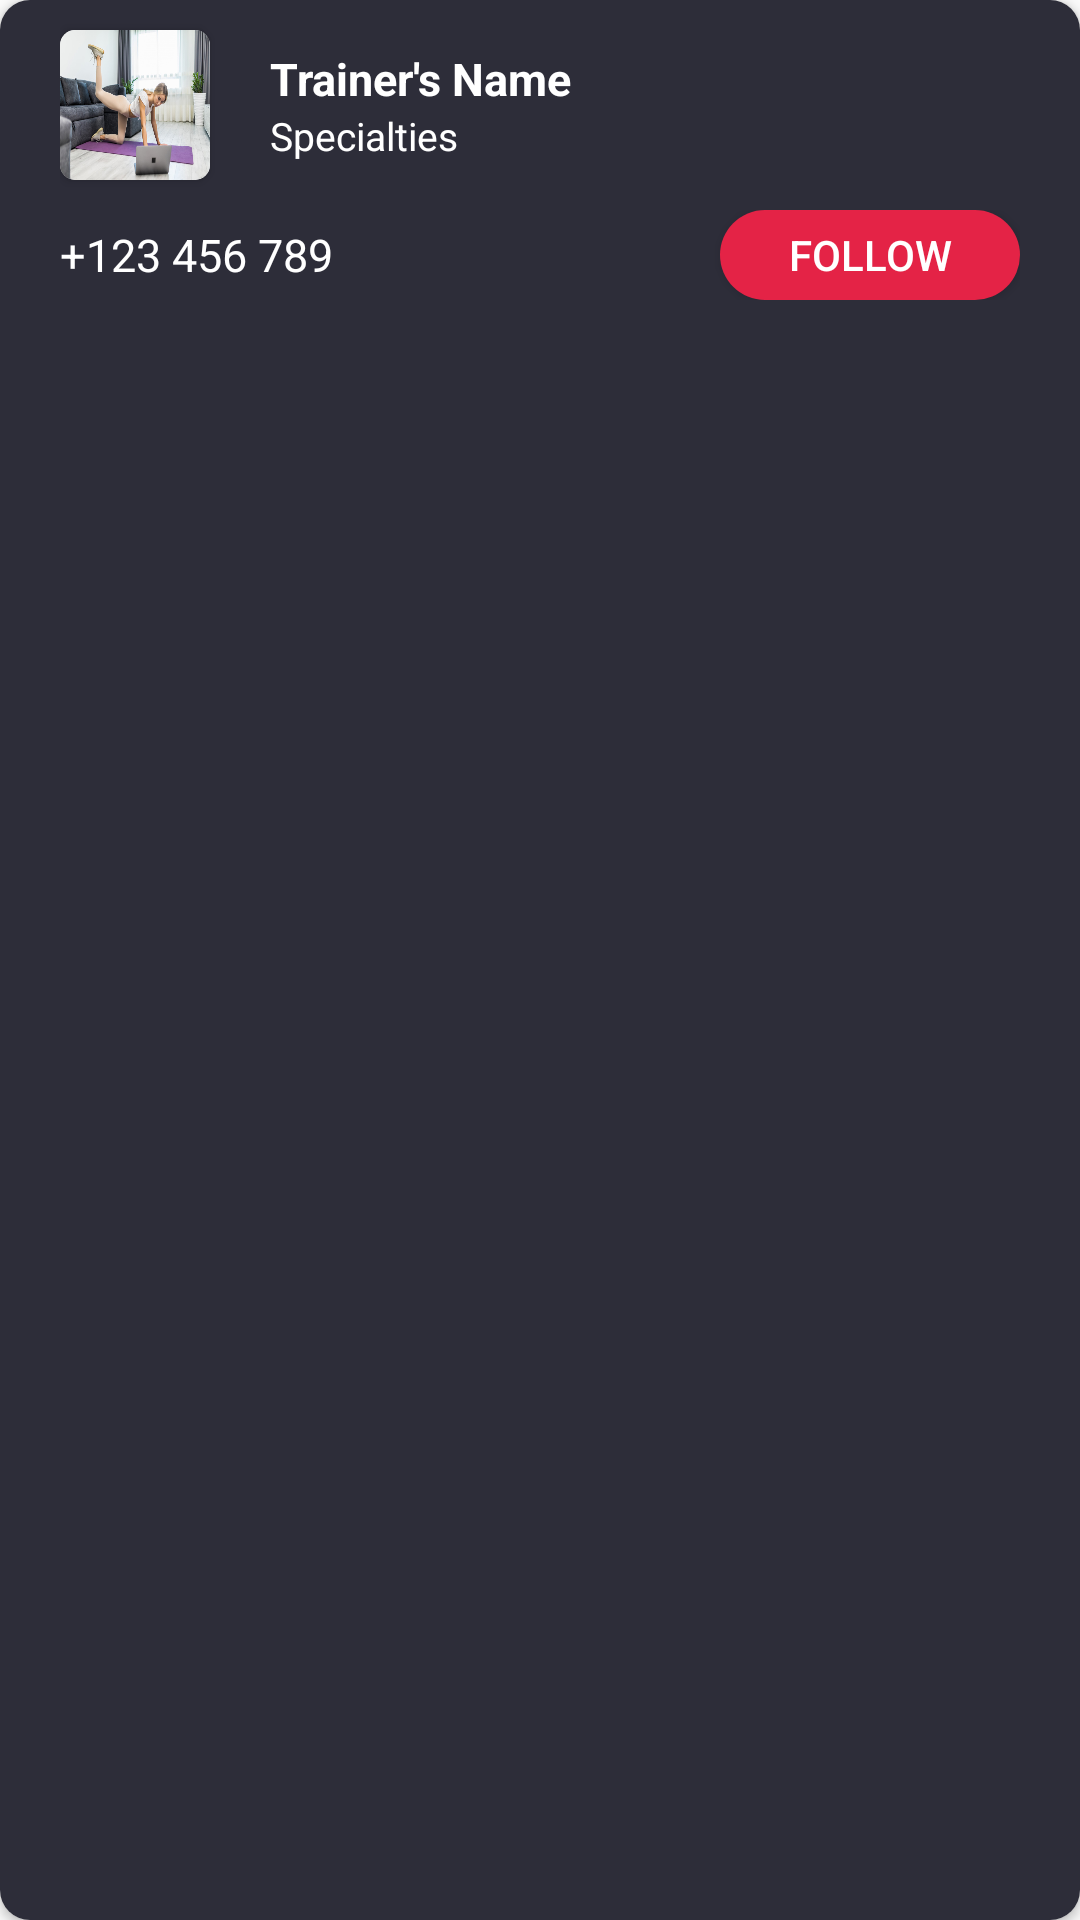

Named icons in this screenshot (1080 × 1920) and their bounding boxes, rect(x1, y1, x2, y2):
workout card: rect(60, 30, 210, 180)
